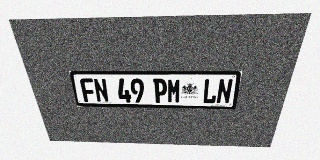4: (116, 78, 132, 103)
9: (130, 78, 145, 103)
F: (79, 78, 97, 102)
L: (202, 79, 219, 104)
M: (167, 78, 181, 103)
N: (216, 79, 233, 104), (93, 78, 109, 102)
P: (153, 78, 167, 103)
